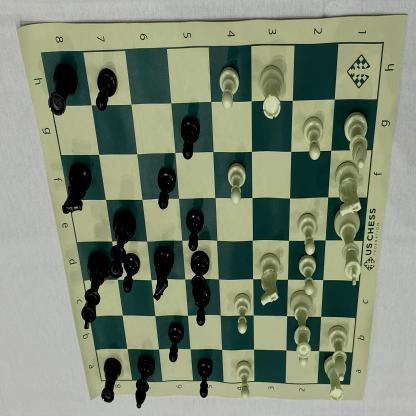black-bishop: (189, 248, 214, 306), (134, 354, 155, 410)
black-king: (80, 251, 110, 332)
black-knight: (61, 162, 91, 215), (152, 245, 175, 303)
black-pawn: (179, 115, 201, 163), (95, 68, 118, 113), (156, 166, 177, 212), (192, 284, 211, 328), (185, 209, 203, 253), (167, 322, 185, 364), (196, 358, 214, 399), (124, 251, 140, 295)
black-queen: (107, 211, 135, 280)
black-rook: (47, 62, 79, 119), (100, 355, 123, 406)
white-bishop: (343, 111, 370, 168), (326, 324, 350, 381)
white-king: (333, 206, 362, 287)
white-knight: (333, 162, 365, 216), (258, 251, 282, 307)
white-pawn: (218, 64, 242, 112), (302, 115, 324, 161), (226, 161, 248, 206), (297, 213, 319, 255), (297, 253, 318, 295), (233, 293, 252, 335), (235, 358, 253, 401), (293, 328, 310, 368)
white-queen: (288, 290, 316, 358)
white-rook: (258, 63, 286, 121), (324, 352, 344, 404)
